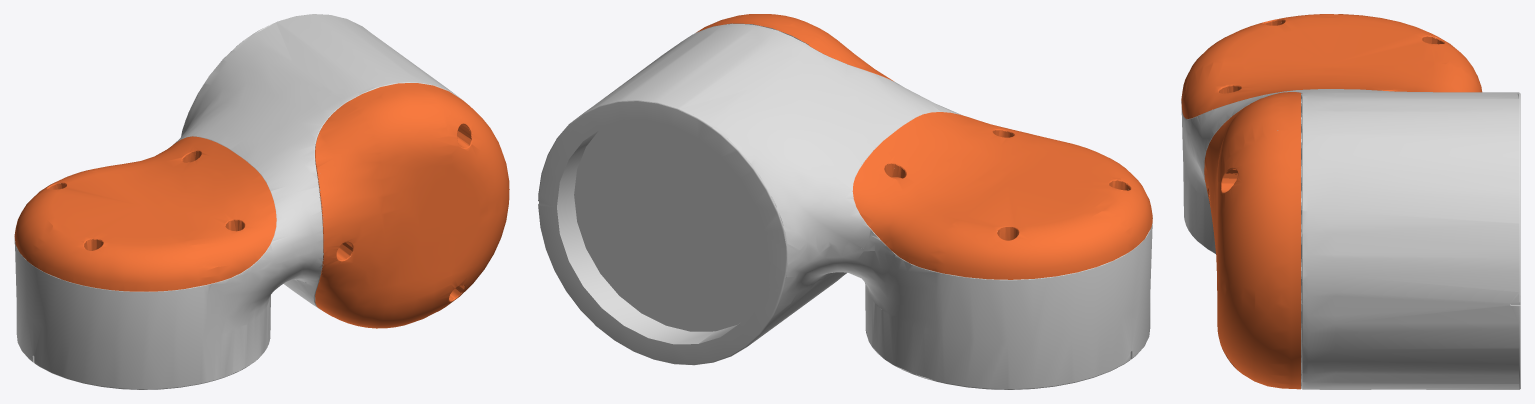
3 views of the same model, side by side, from view 1: azimuth 30°, elevation 25°; view 2: azimuth 150°, elevation 25°; view 3: azimuth 270°, elevation 25° (orthographic). The views are drawn at different scales.
Parts seen in each view (by area): view 1: null; view 2: null; view 3: null.
Boxes of the visible parts, box(x1,y1,x2,y2) form: null: box(14, 14, 509, 389); null: box(538, 14, 1152, 389); null: box(1181, 14, 1520, 389).
Bounding box in the file's own units: 0.1696 × 0.083 × 0.0946.
